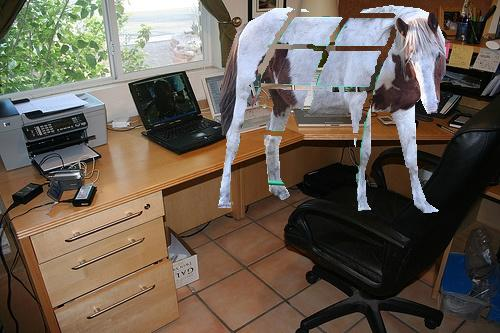tampered: (219, 6, 446, 213)
